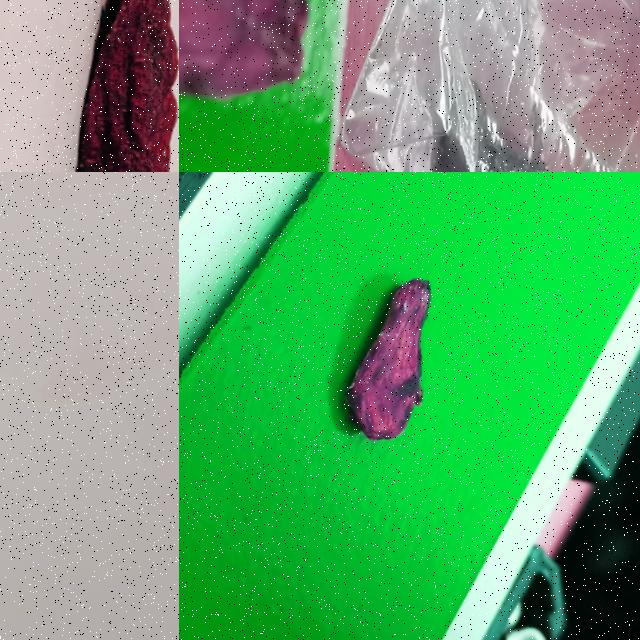Flat_cocoabeans: (272, 172, 499, 489), (179, 0, 392, 171), (10, 0, 178, 171)
